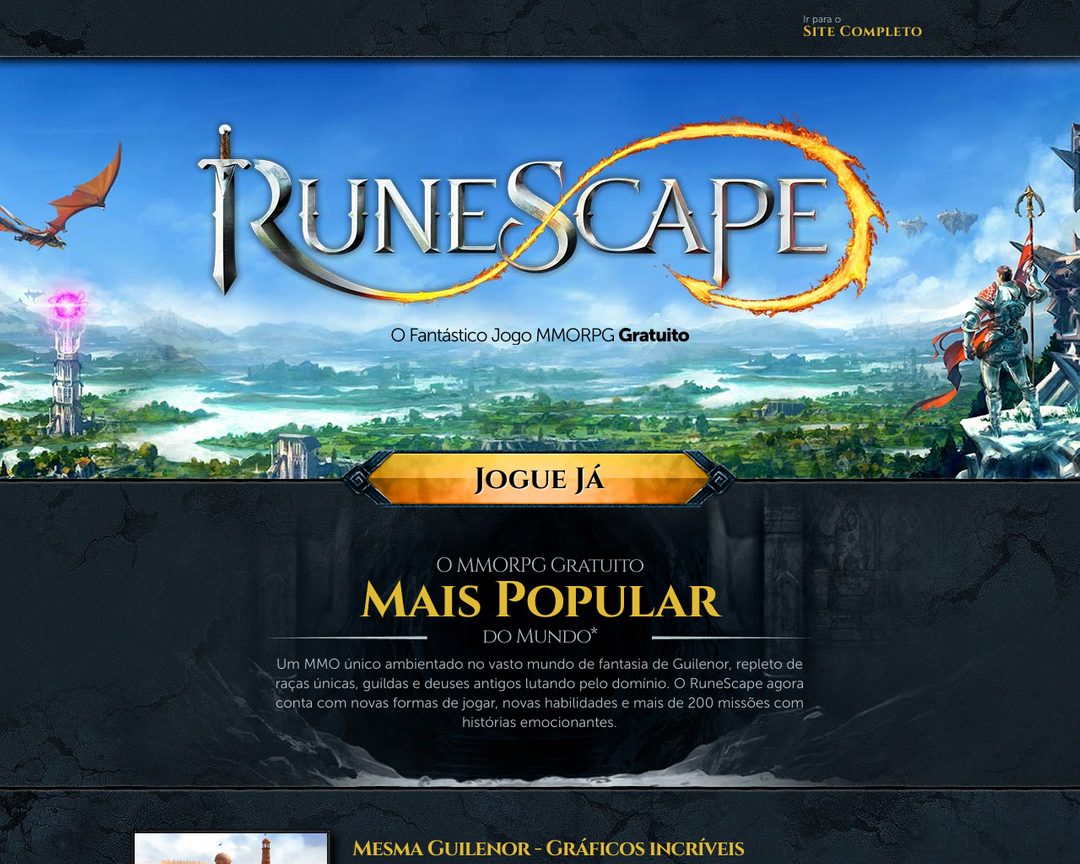Runescape: (199, 112, 892, 322)
